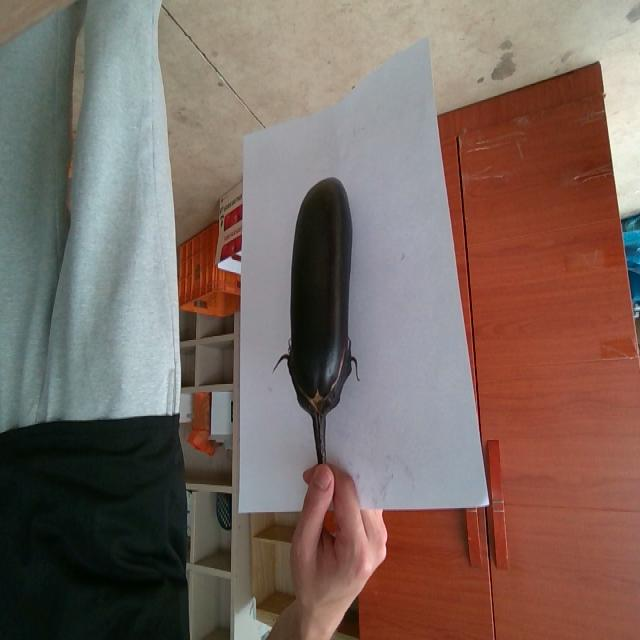Egg plant: (275, 179, 357, 464)
